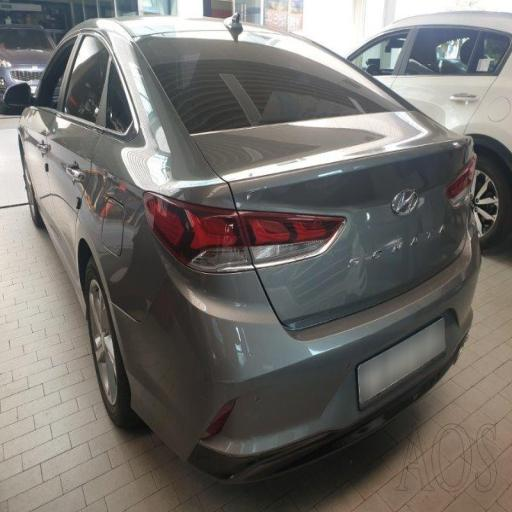scratch: (156, 140, 462, 422)
